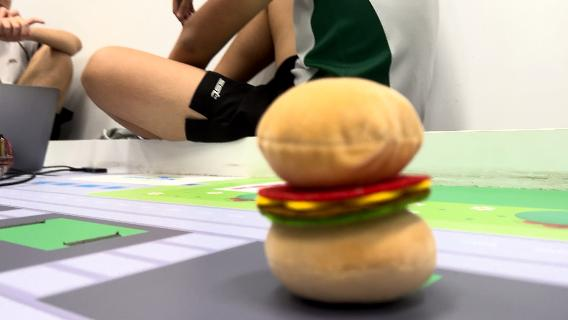burger: (249, 73, 442, 304)
